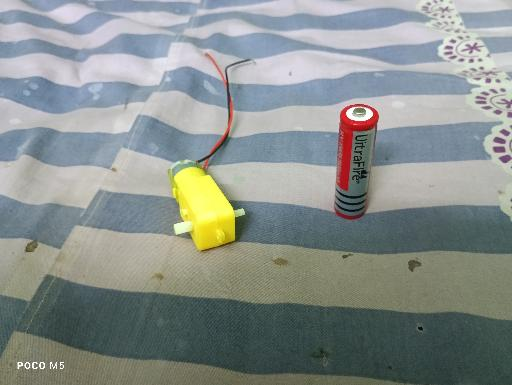Battery: (334, 104, 379, 220)
Motor: (169, 159, 245, 252)
